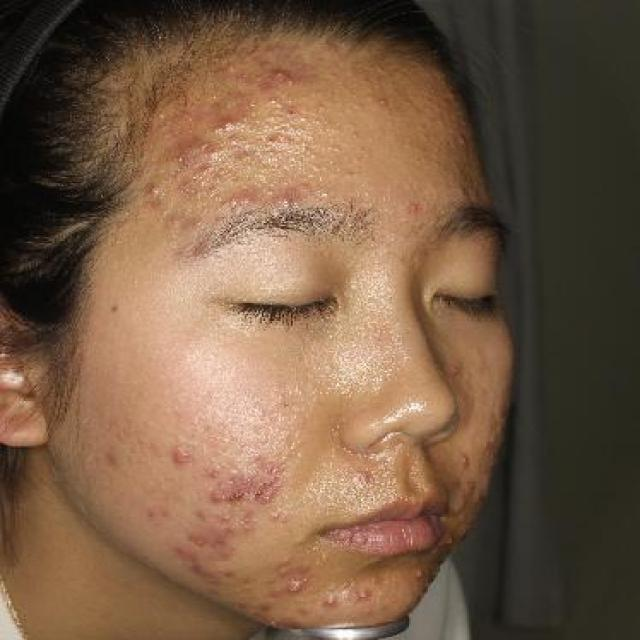nodules: (168, 443, 193, 469), (453, 448, 481, 469), (217, 116, 245, 136), (442, 531, 464, 549), (281, 71, 303, 89), (286, 582, 308, 599), (140, 181, 161, 197), (373, 96, 392, 113), (206, 489, 225, 505), (449, 359, 466, 376), (250, 449, 267, 463), (414, 568, 431, 582), (269, 66, 286, 80), (323, 595, 339, 608), (147, 180, 163, 192), (284, 94, 300, 106), (260, 492, 274, 505), (221, 512, 234, 526), (267, 615, 281, 628), (308, 161, 322, 174), (192, 535, 205, 548), (228, 525, 240, 537), (332, 143, 344, 155), (298, 149, 311, 160), (243, 142, 255, 153), (223, 168, 235, 179), (277, 150, 289, 159), (243, 163, 255, 172), (325, 140, 336, 149), (269, 95, 281, 103), (286, 125, 299, 132), (282, 135, 293, 143), (320, 127, 329, 136), (299, 139, 308, 148), (293, 159, 303, 166), (308, 128, 317, 135), (279, 126, 286, 134), (288, 162, 296, 169)
